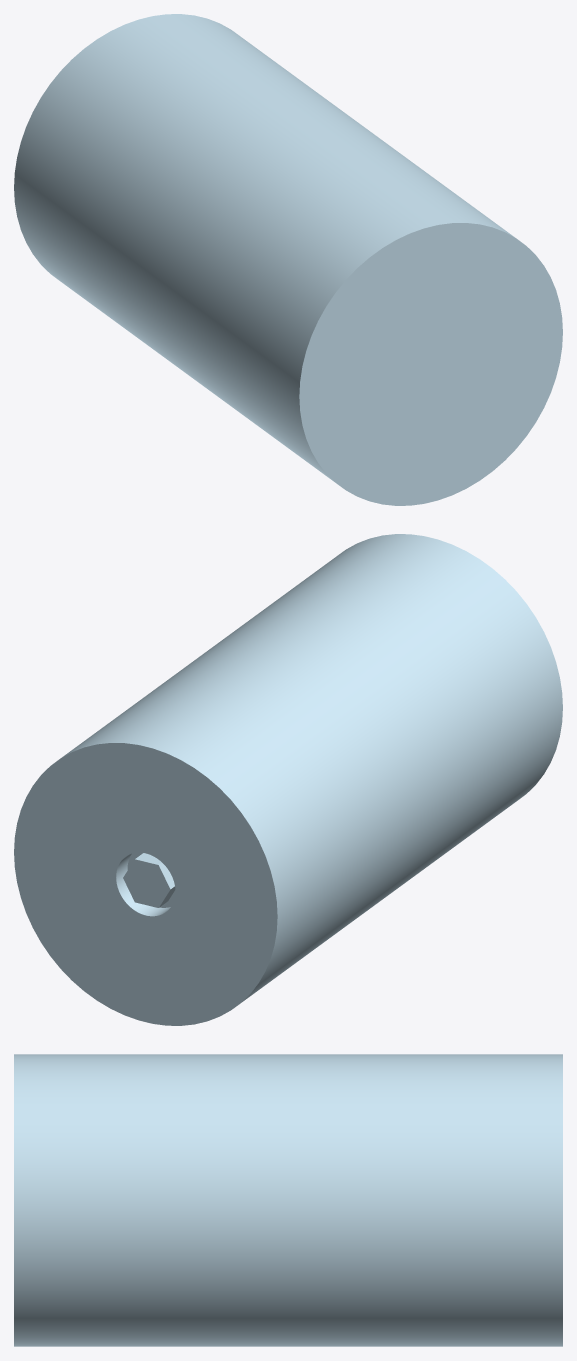
The picture shows the model from 3 angles, top to bottom: view 1: azimuth 30°, elevation 25°; view 2: azimuth 150°, elevation 25°; view 3: azimuth 270°, elevation 25°; orthographic projection. The views are drawn at different scales.
Parts seen in each view (by area): view 1: cylinder_top, cylinder_base_8, cylinder_base_0, cylinder_base_16, cylinder_base_32, cylinder_base_24; view 2: cylinder_top, cylinder_base_8, cylinder_base_0, cylinder_base_16, cylinder_base_32, cylinder_base_24, bolt_m10; view 3: cylinder_top, cylinder_base_8, cylinder_base_32, cylinder_base_0, cylinder_base_16, cylinder_base_24.
Boxes of the visible parts, box(x1,y1,x2,y2) form: cylinder_top: box(109, 83, 562, 505); cylinder_base_8: box(29, 25, 323, 342); cylinder_base_0: box(14, 14, 312, 339); cylinder_base_16: box(44, 36, 315, 329); cylinder_base_32: box(73, 57, 323, 341); cylinder_base_24: box(59, 48, 299, 339); cylinder_top: box(156, 534, 562, 933); cylinder_base_8: box(40, 673, 372, 997); cylinder_base_0: box(14, 674, 370, 1025); cylinder_base_16: box(68, 674, 371, 981); cylinder_base_32: box(116, 673, 372, 959); cylinder_base_24: box(94, 673, 369, 970); bolt_m10: box(123, 853, 175, 907); cylinder_top: box(14, 1054, 379, 1346); cylinder_base_8: box(380, 1054, 533, 1346); cylinder_base_32: box(380, 1054, 449, 1346); cylinder_base_0: box(380, 1054, 562, 1346); cylinder_base_16: box(380, 1054, 504, 1345); cylinder_base_24: box(380, 1055, 474, 1345).
Size of the model in its own units: 0.08 by 0.0799 by 0.15.
